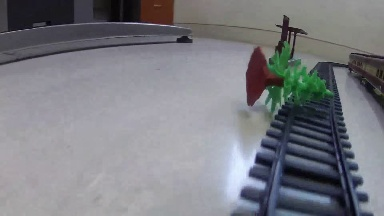tree: (246, 41, 334, 111)
